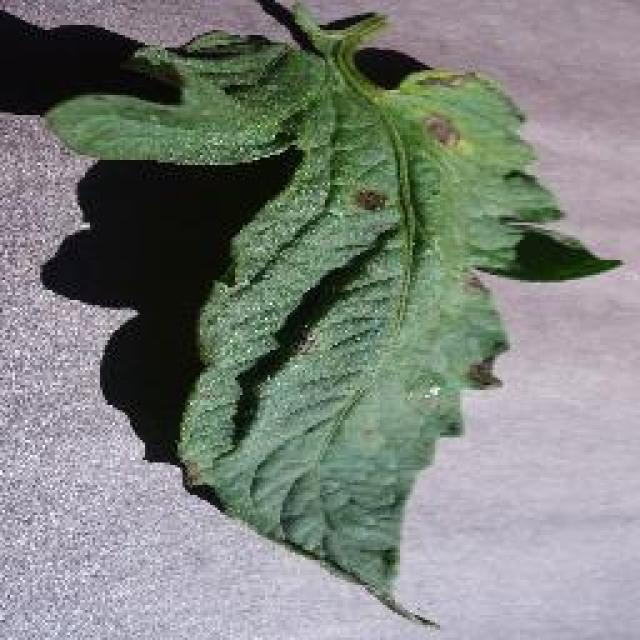Tomato___Early_blight: (40, 0, 625, 627)
